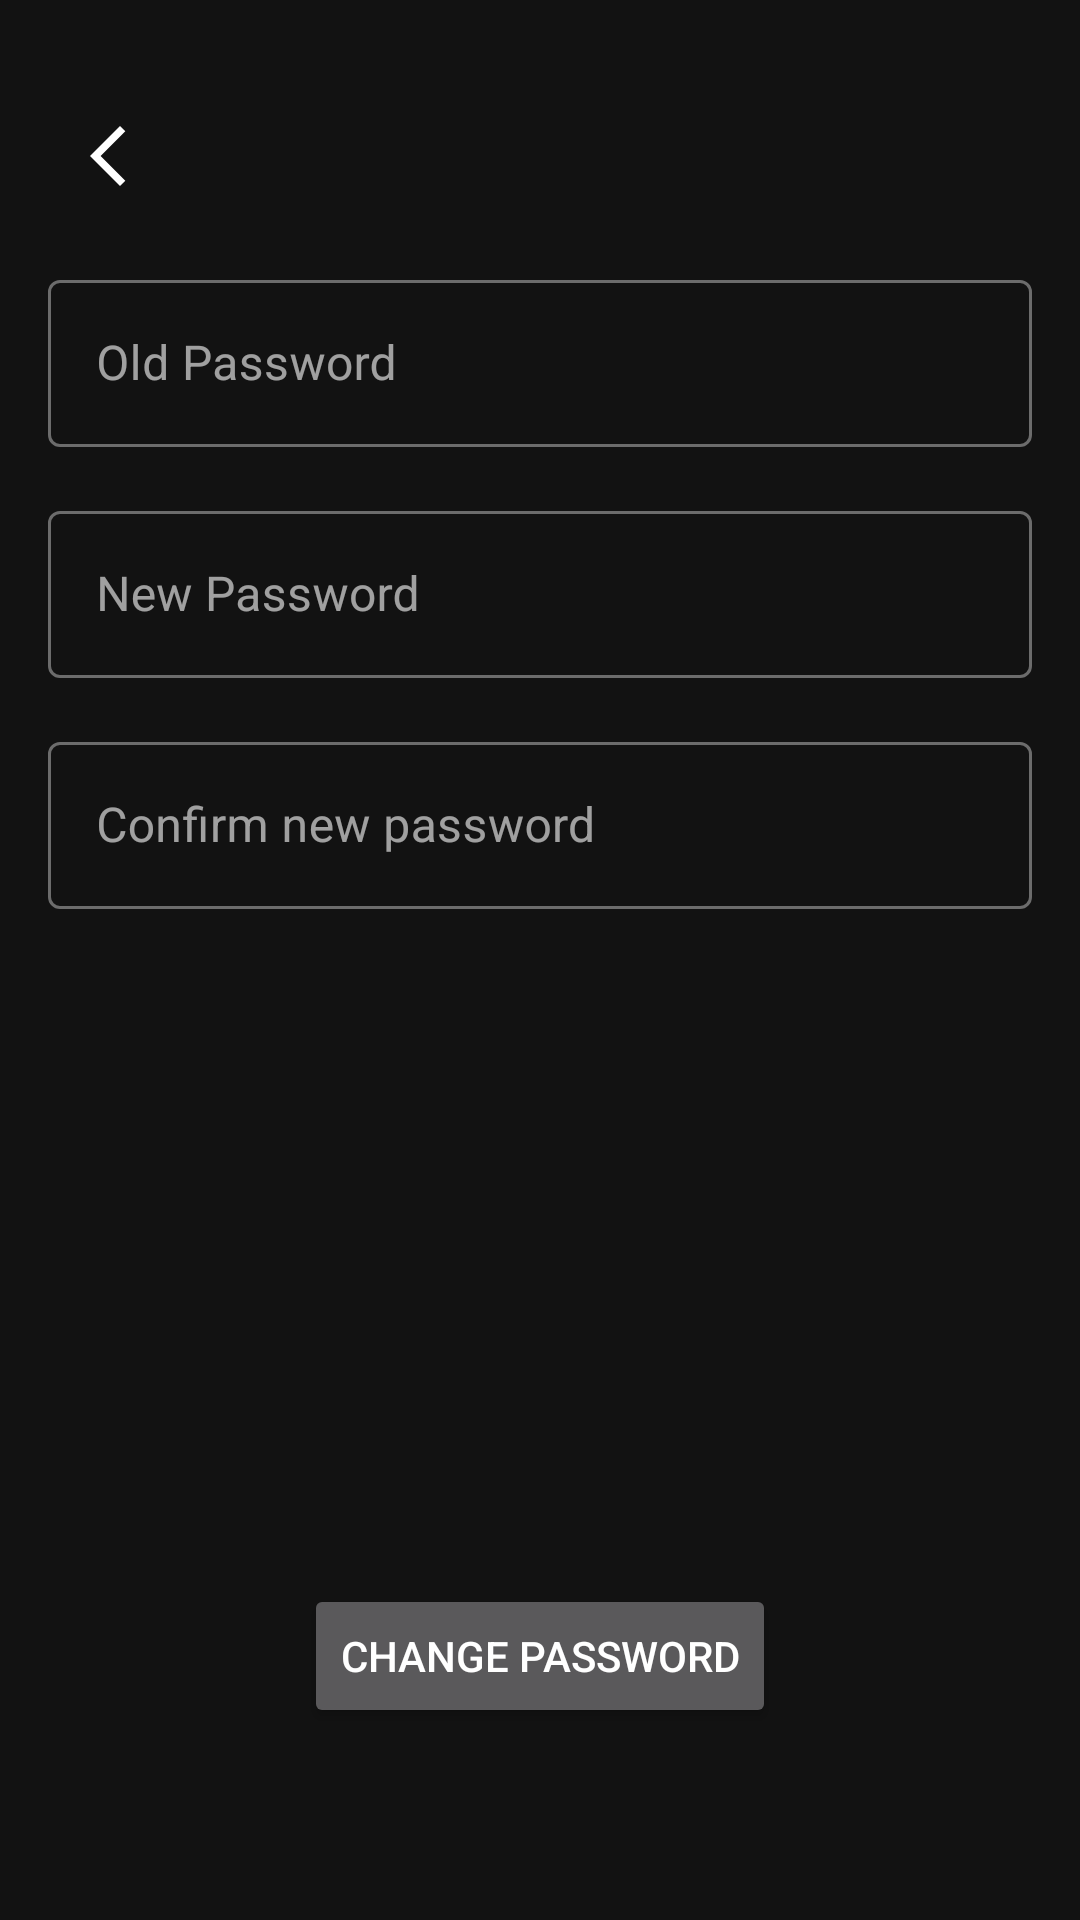

Screen size 1080×1920. Icon name, then its box in pixels as (x1, y1, x2, y2):
Back: (90, 126, 125, 186)
